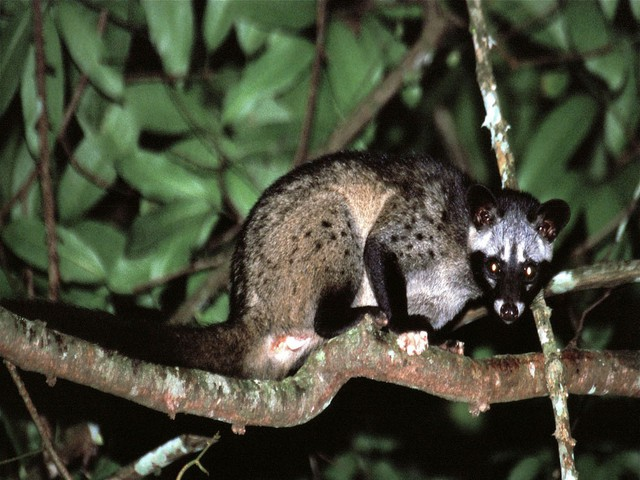civet: (13, 146, 573, 377)
